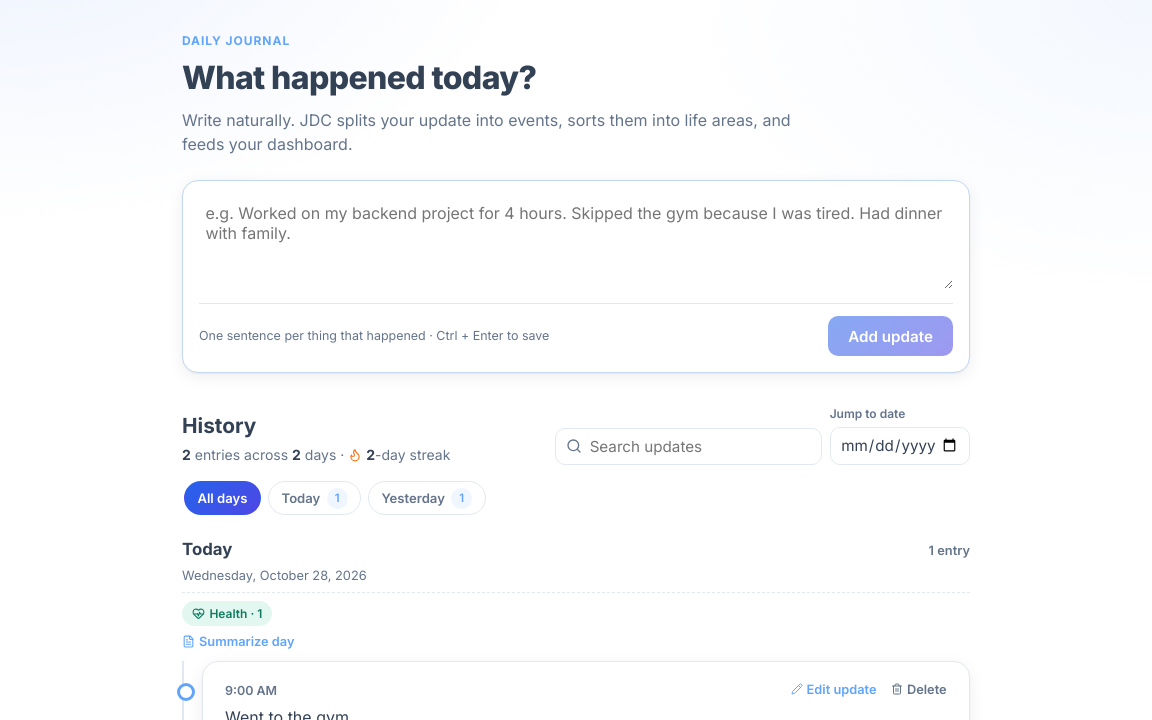
Scenario: Deleting updates › asks for confirmation, then deletes the entry and its day group
This screenshot has width=1152, height=720.
Click the button "Delete" at [919, 689], box [891,682,947,697]
(page scrolled)
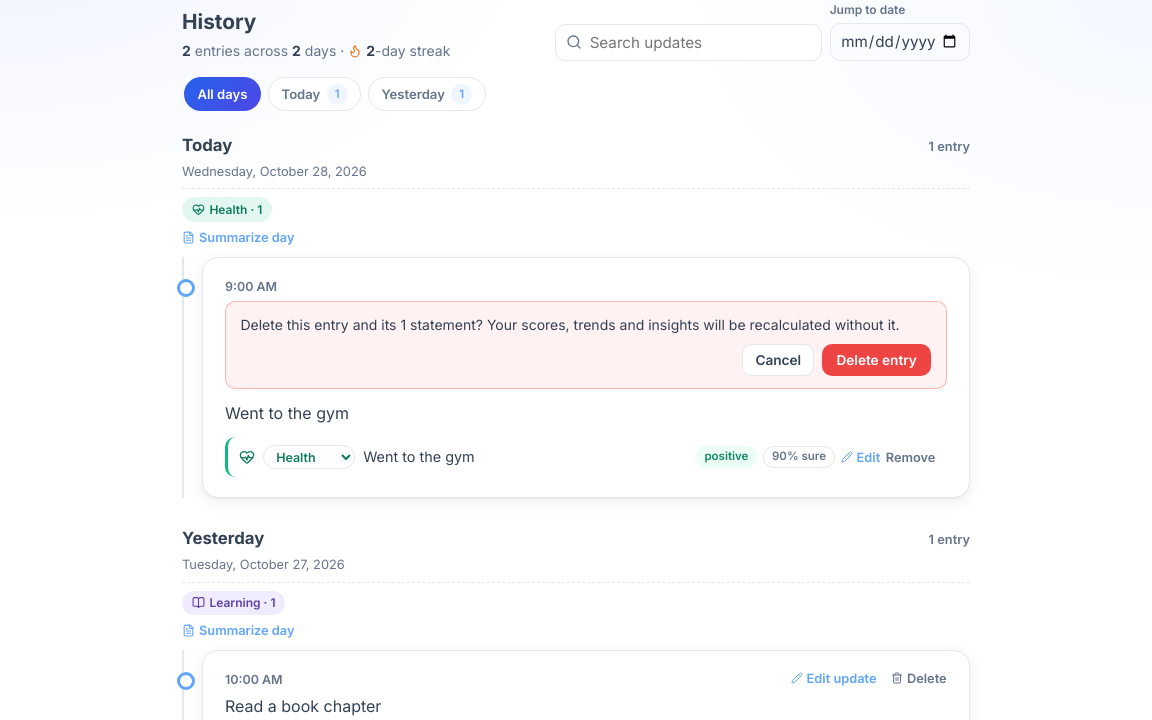
Expected: the dialog named "Confirm delete" shows "Delete this entry and its 1 statement?", [225,301,947,389]
Click the button "Delete entry" at [877, 360], box [822,344,931,376]
(page scrolled)
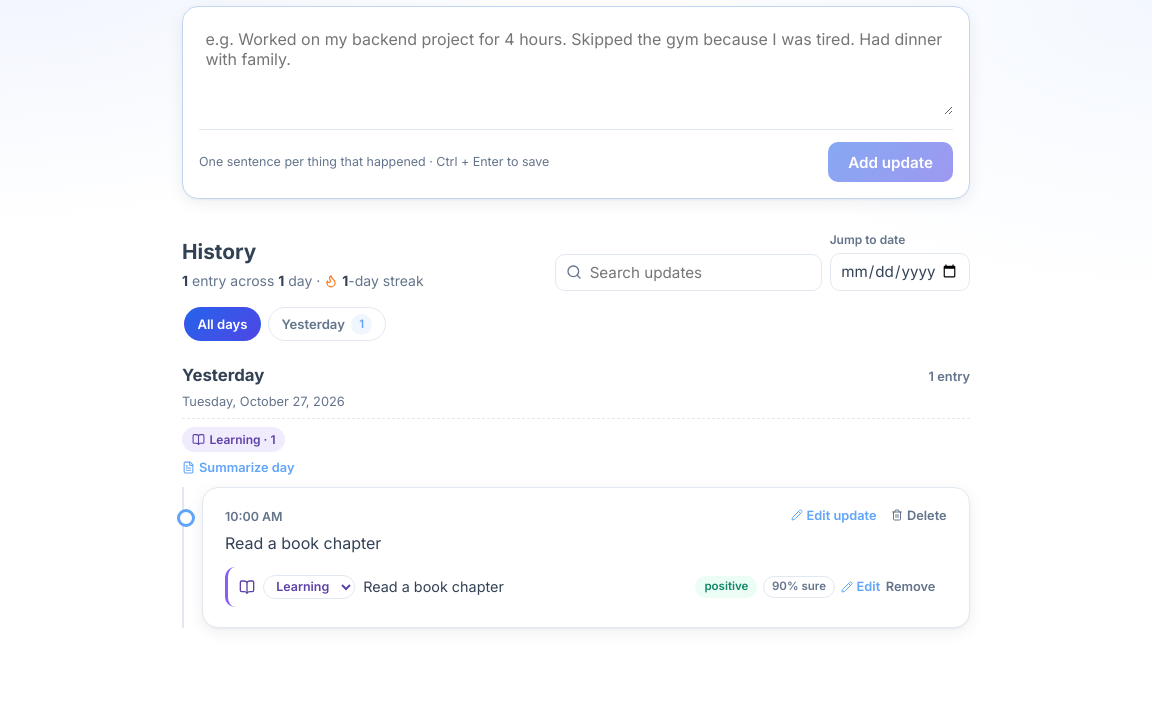
Expected: the heading "Today" is not shown
Expected: the element with class "history-stats" shows "1 entry across 1 day", [182,270,424,290]
Expected: the text "Went to the gym" is gone
